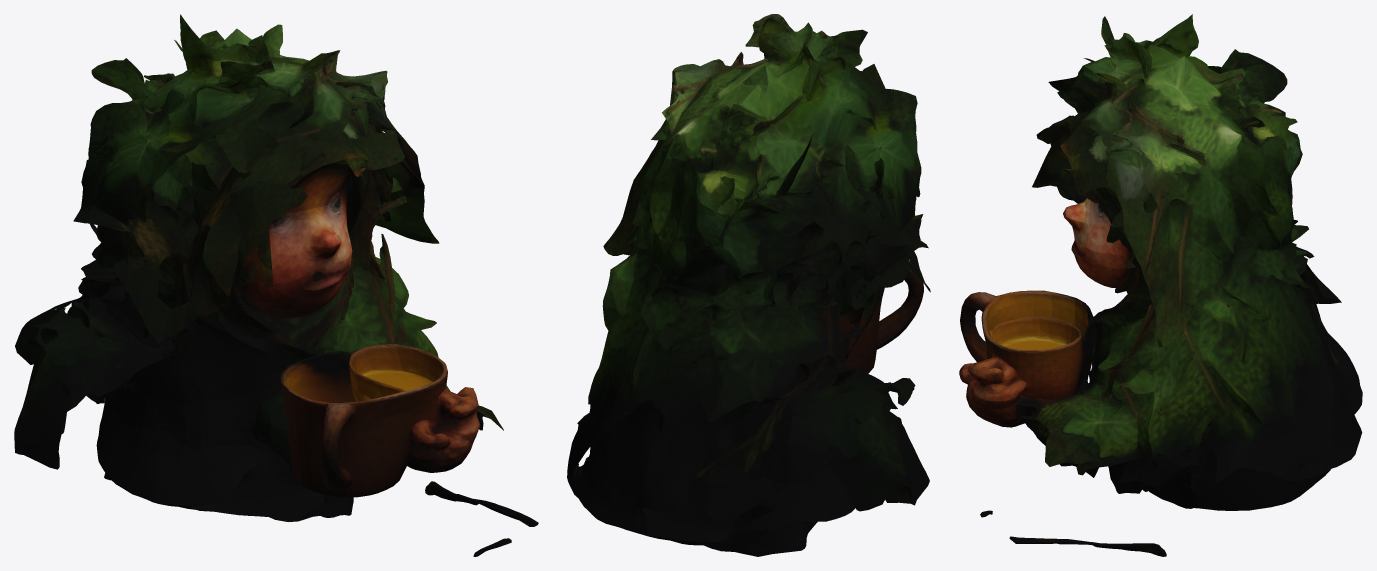
File: Enemy.glb
3 views of the same model, side by side, from view 1: azimuth 30°, elevation 25°; view 2: azimuth 150°, elevation 25°; view 3: azimuth 270°, elevation 25° (orthographic). The views are drawn at different scales.
Parts seen in each view (by area): view 1: world; view 2: world; view 3: world.
Boxes of the visible parts, x1,y1,x2,y2 form: world: (14,14,538,556); world: (567,14,930,556); world: (959,14,1362,556).
Size of the model in its own units: 0.7647 by 0.9707 by 0.7948.
1 material, 1 textured.
